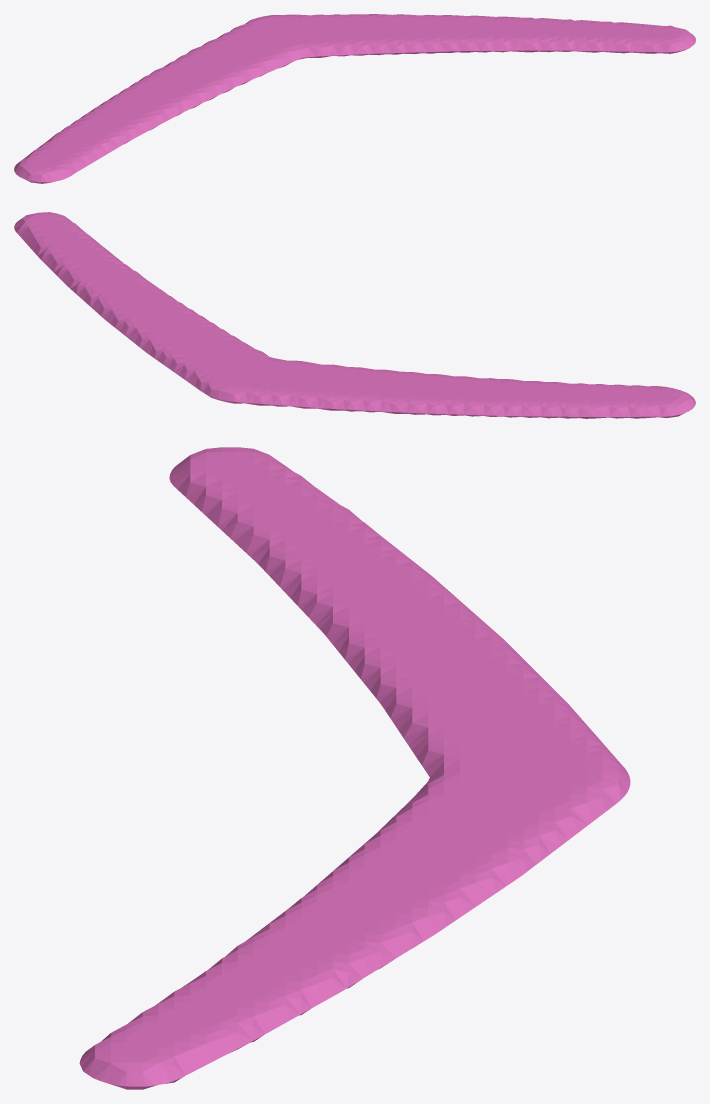
The model's file is boomerang.glb.
The picture shows the model from 3 angles, top to bottom: view 1: azimuth 30°, elevation 25°; view 2: azimuth 150°, elevation 25°; view 3: azimuth 270°, elevation 25°; orthographic projection. The views are drawn at different scales.
Visible parts, largest first — view 1: boomerang; view 2: boomerang; view 3: boomerang.
Boxes of the visible parts, x1=… form: boomerang: x1=14, y1=14, x2=695, y2=183; boomerang: x1=14, y1=212, x2=695, y2=418; boomerang: x1=79, y1=447, x2=630, y2=1089.
Size of the model in its own units: 2.08 by 0.036 by 0.7637.
